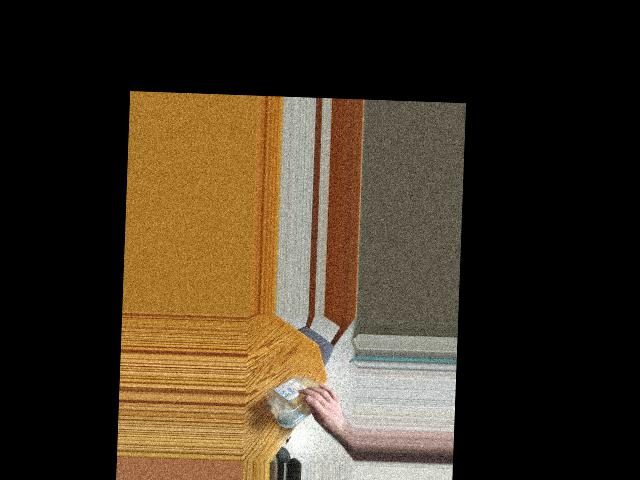cheese: (263, 373, 332, 426)
